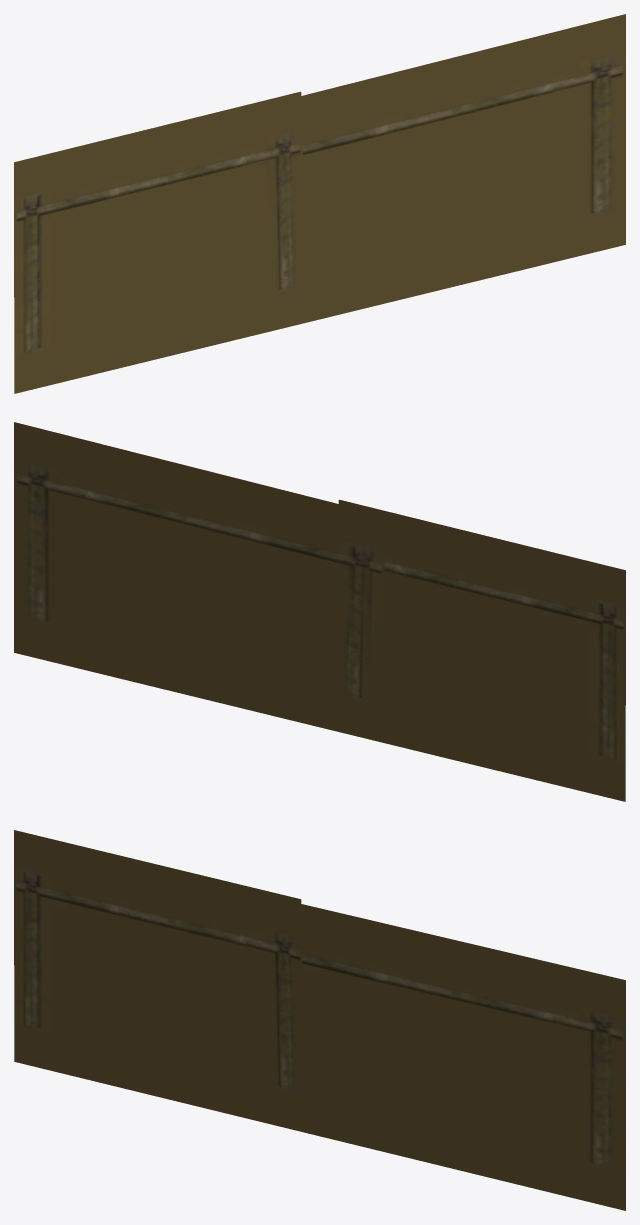
File: thm_endr_lake_rail4m_l3.fbx
3 renders of one model, top to bottom at view 1: azimuth 30°, elevation 25°; view 2: azimuth 150°, elevation 25°; view 3: azimuth 330°, elevation 25°, orthographic.
Parts seen in each view (by area): view 1: mesh_node; view 2: mesh_node; view 3: mesh_node.
Part boxes in pixels (bbox=[...]): mesh_node: bbox=[14, 14, 625, 393]; mesh_node: bbox=[14, 422, 625, 801]; mesh_node: bbox=[14, 830, 625, 1210].
Size of the model in its own units: 4.06 by 1.47 by 0.00485.
1 material, 1 textured.
